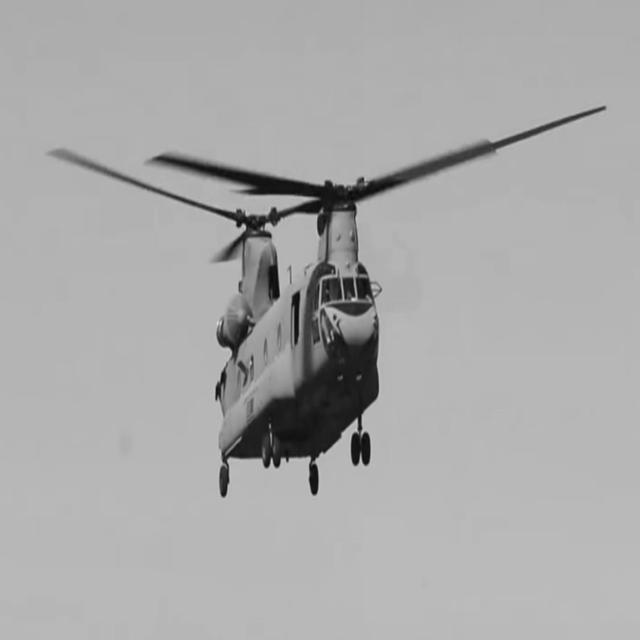Helicopter: (54, 110, 597, 496)
